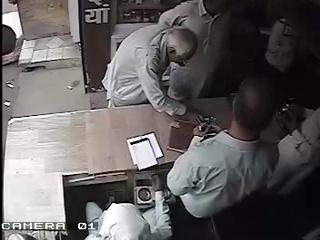Normal: (165, 76, 306, 240), (101, 20, 202, 122), (158, 0, 252, 102)
